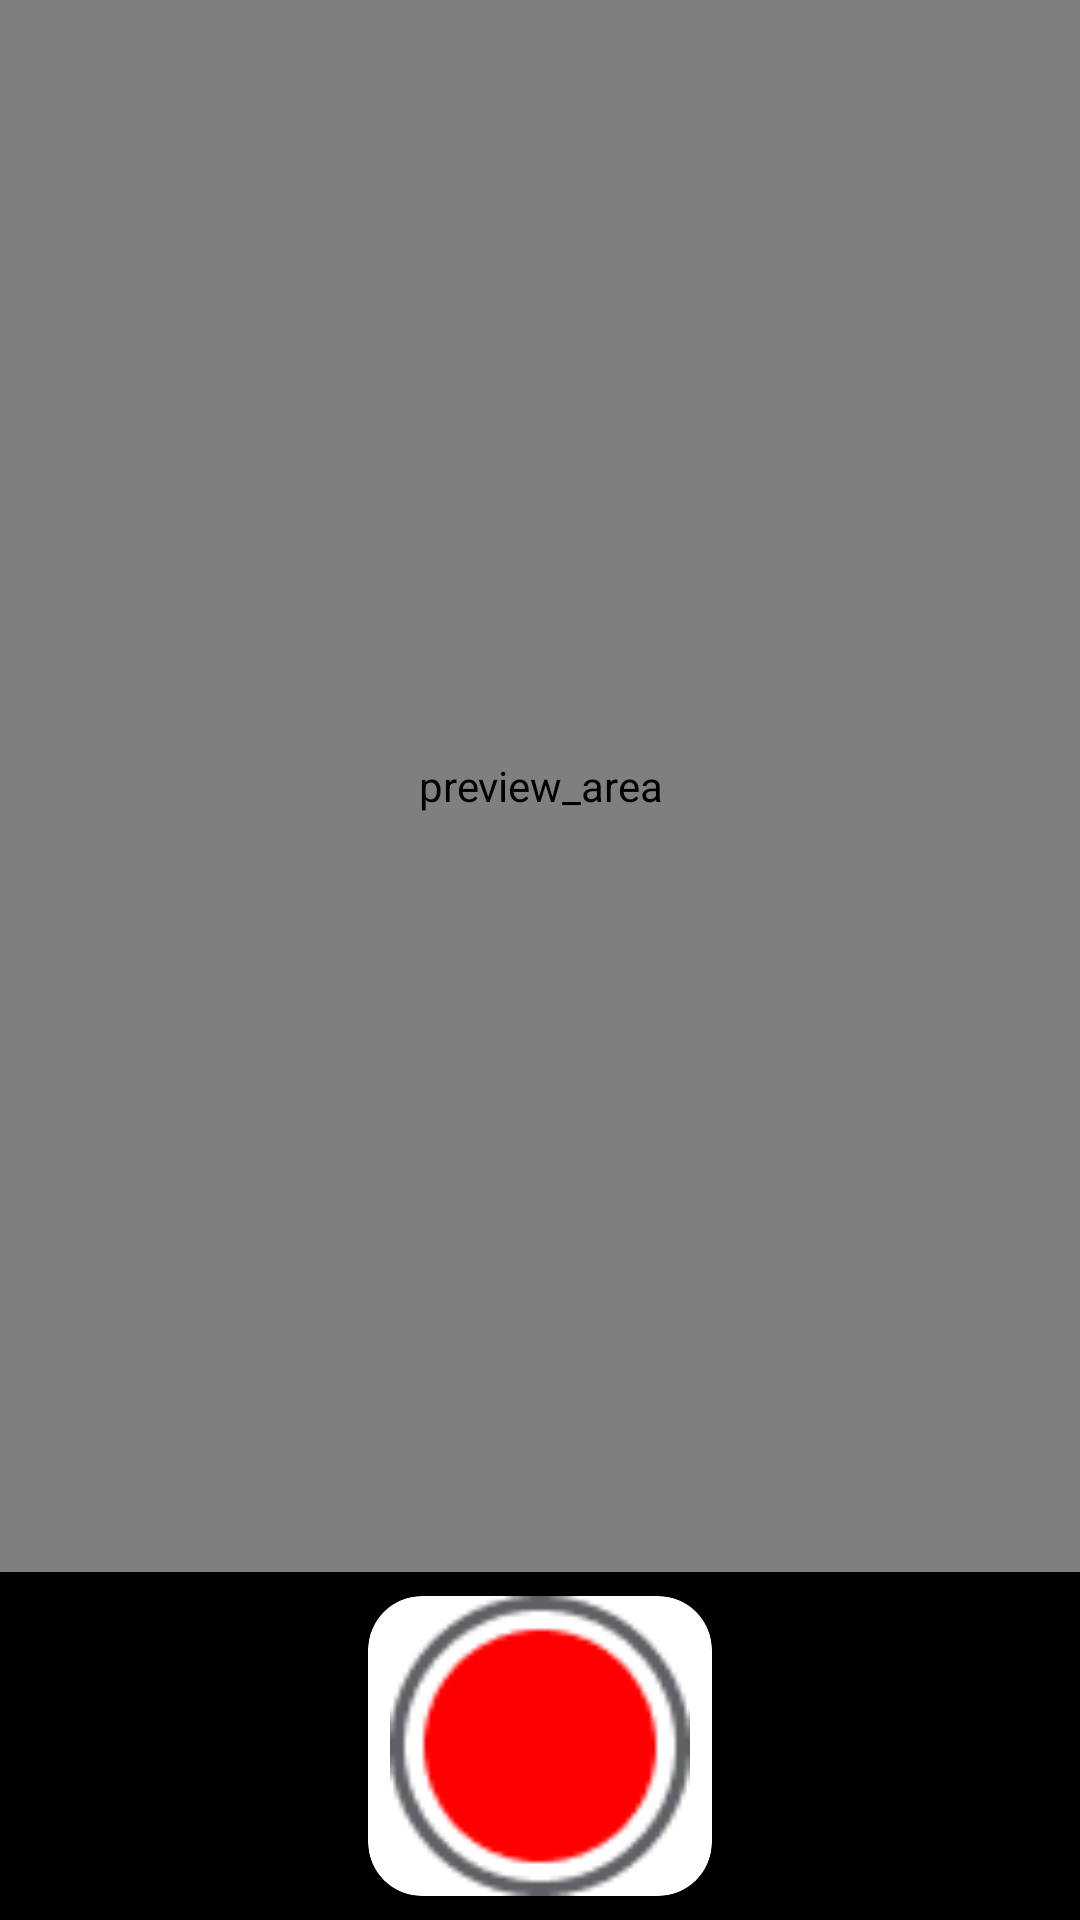

Icons on this 1080 x 1920 Android screen, each with the point to tap as point (x, y):
capture: point (540, 1746)
